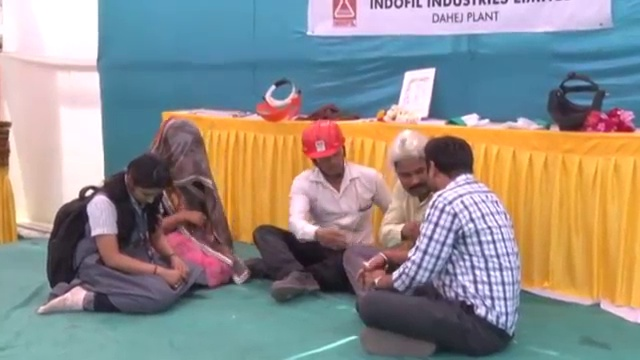helmet: (299, 122, 348, 161)
helmet_off: (418, 136, 478, 201), (152, 120, 209, 188), (115, 151, 177, 208), (390, 128, 427, 197)
helmet_on: (298, 120, 349, 182)
person: (357, 131, 521, 359), (39, 147, 203, 315), (245, 122, 394, 301), (144, 117, 239, 285), (343, 130, 440, 293)
